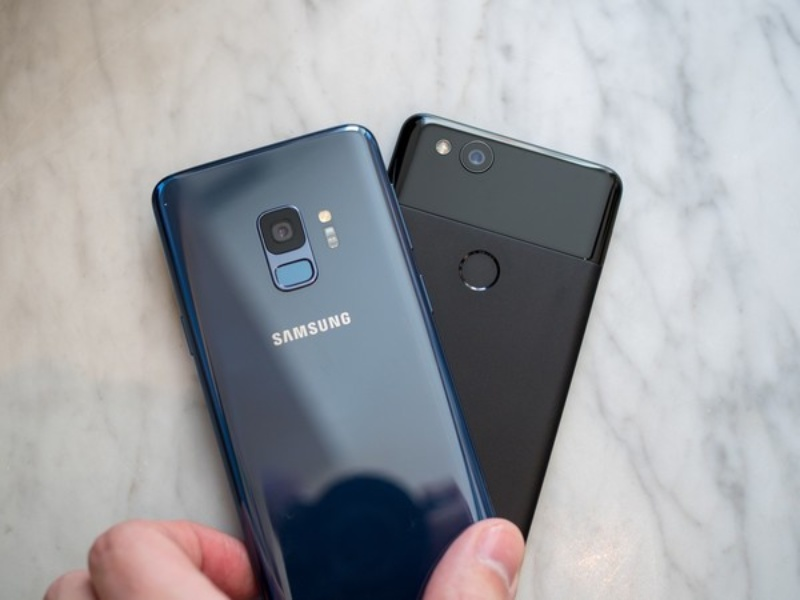mobile: (119, 106, 513, 600)
